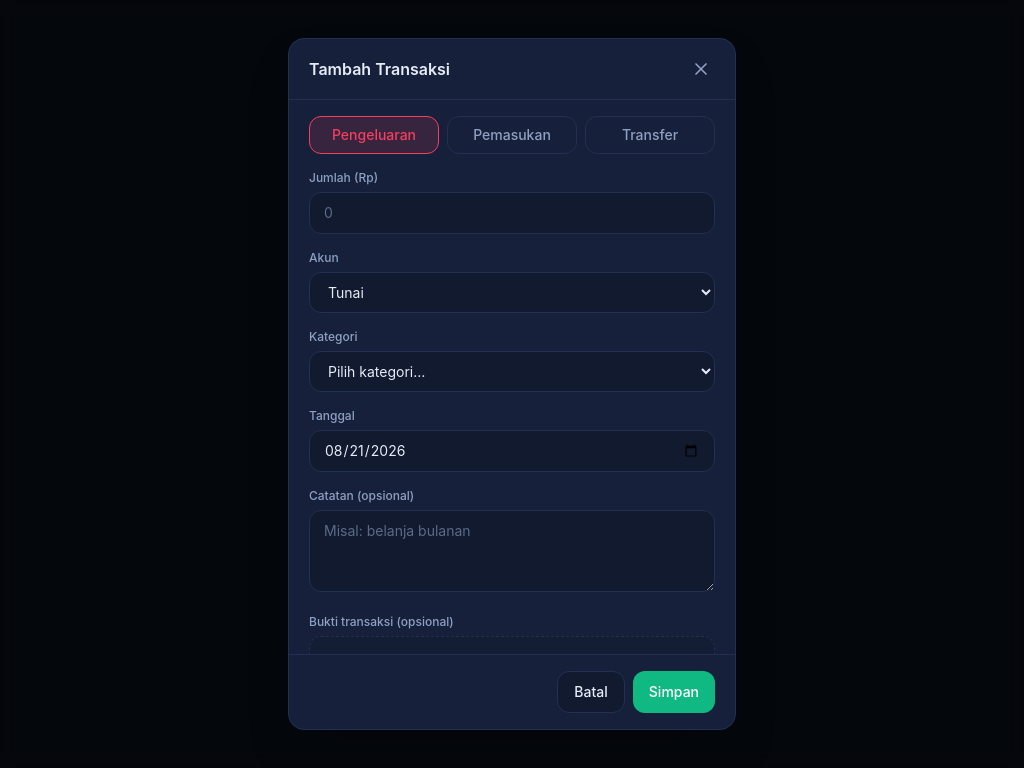
Scenario: TransactionForm › hides category and receipt fields for transfers and requires a destination account
Click the button "Transfer" at (650, 135), box [585,116,715,154]
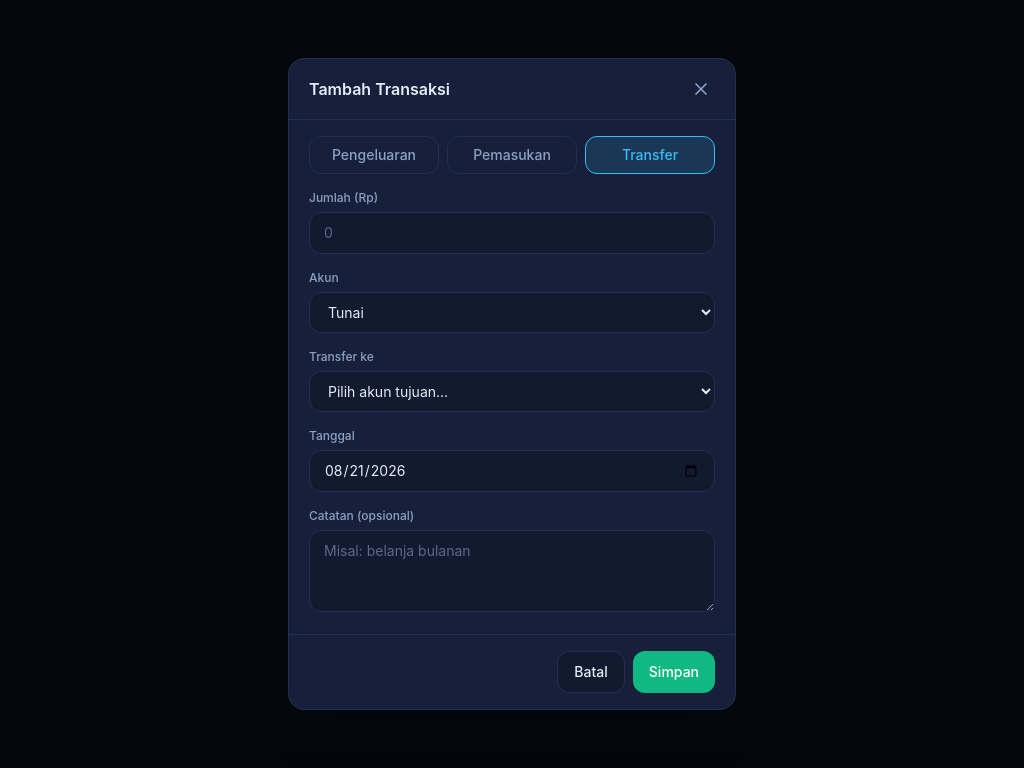
Check: the dropdown labelled "Transfer ke" is shown, box [309,371,715,412]
Check: the text labelled "Kategori" is gone
Check: the text "Bukti transaksi (opsional)" is gone
Submit the form with id "tx-form", box [309,136,715,618]
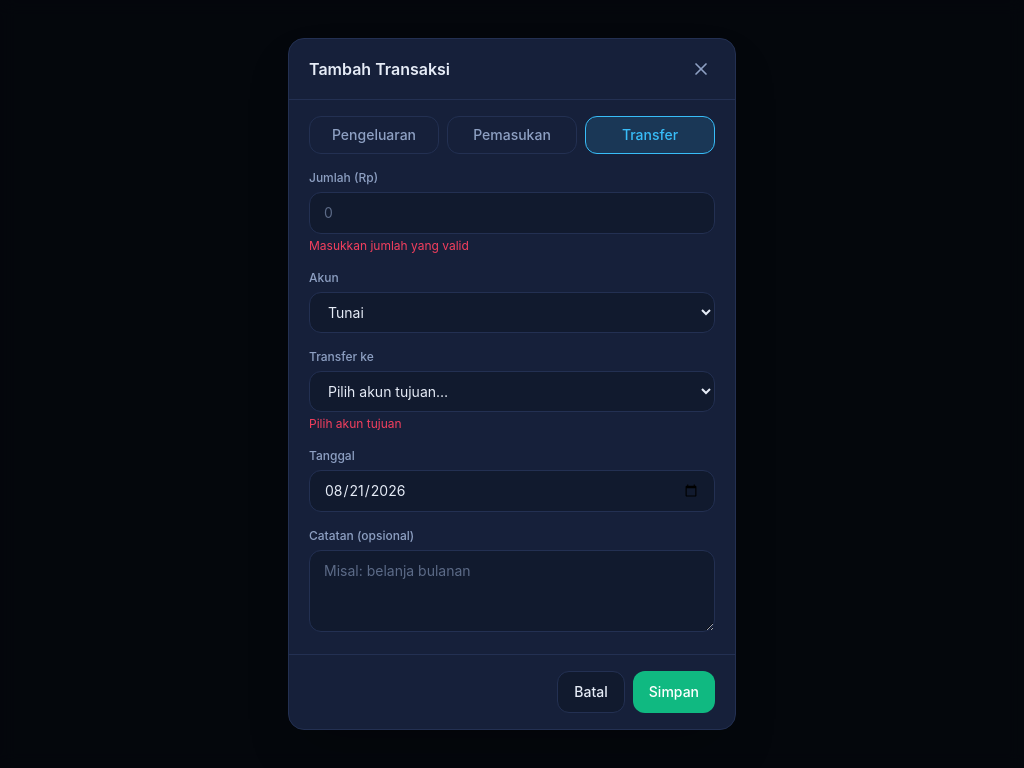
Check: the text "Pilih akun tujuan" is shown, box [309,416,402,431]
